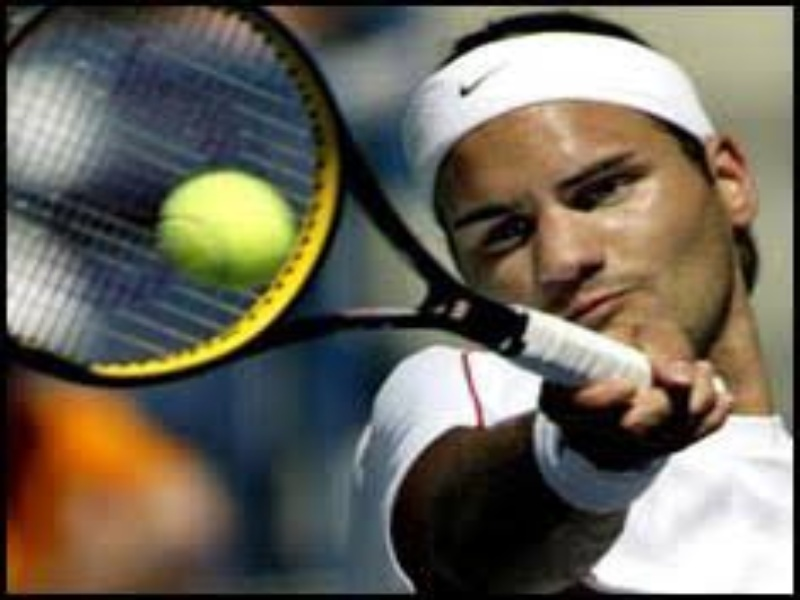tennis ball: (149, 155, 335, 321)
